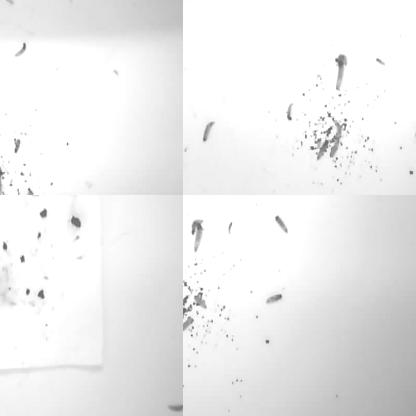PtecticusTenebrifer: (202, 121, 216, 144), (315, 140, 329, 160), (274, 214, 288, 234), (336, 60, 344, 92), (194, 223, 202, 254), (14, 41, 27, 59), (264, 293, 283, 305), (191, 217, 204, 234), (330, 138, 341, 158), (195, 294, 208, 310), (168, 402, 183, 413), (63, 0, 83, 8), (183, 318, 195, 331), (183, 286, 188, 313), (126, 0, 145, 7), (286, 102, 293, 121), (183, 307, 190, 326), (287, 0, 301, 8), (14, 139, 21, 154), (183, 287, 190, 300), (0, 171, 3, 195), (228, 219, 233, 233), (190, 0, 207, 4), (0, 394, 6, 405), (0, 363, 3, 385), (0, 22, 7, 31), (0, 195, 9, 202), (183, 195, 190, 204), (388, 195, 403, 199), (24, 188, 32, 195), (167, 0, 179, 4), (183, 195, 191, 200)
